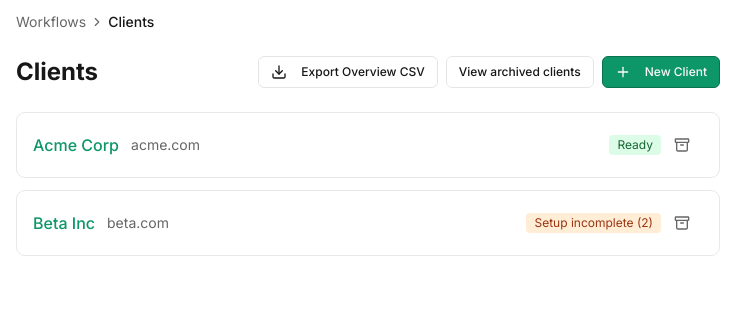
it: ClientsList — readiness badges › shows a Ready badge for a fully configured client and Setup incomplete for one with issues
The image size is (737, 315).
Expected: the text "Acme Corp" is shown, top-left (33, 135), bottom-right (119, 155)
Expected: the text "Beta Inc" is shown, top-left (33, 213), bottom-right (95, 233)
Click the button "Setup incomplete (2)": (594, 223) top-left (526, 213), bottom-right (661, 233)
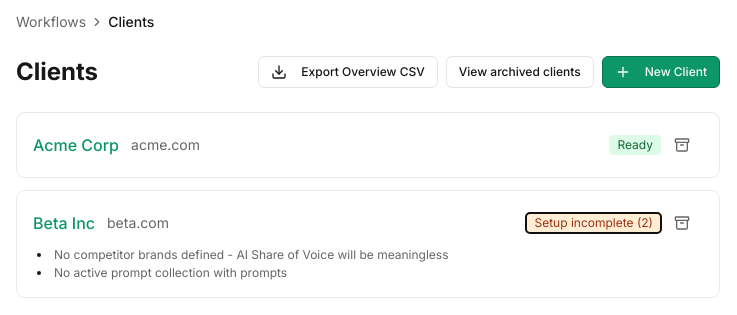
Expected: the text "No competitor brands defined - AI Share of Voice will be meaningless" is shown, top-left (54, 247), bottom-right (448, 262)
Expected: the text "No active prompt collection with prompts" is shown, top-left (54, 265), bottom-right (287, 280)
